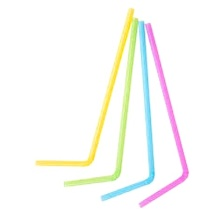drinking_straw: (30, 3, 137, 172), (59, 16, 141, 192), (96, 18, 158, 204), (133, 19, 191, 212)
